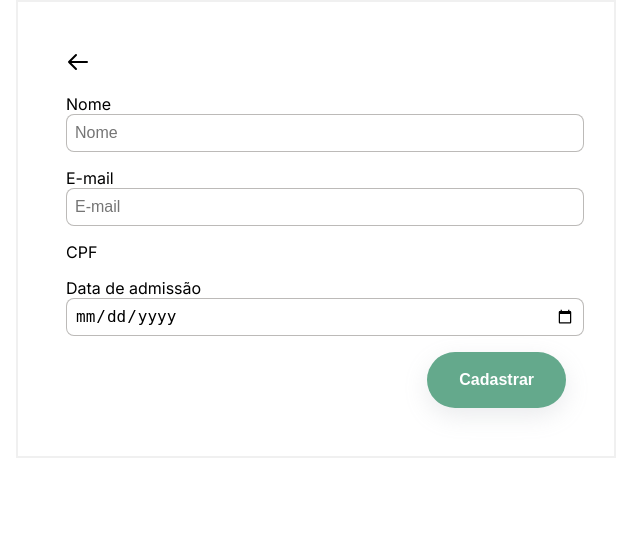
Scenario: NewUser Page tests › Should validate empty form on click button
This screenshot has width=633, height=535.
Click the button "Cadastrar" at (497, 380), box [427,352,566,408]
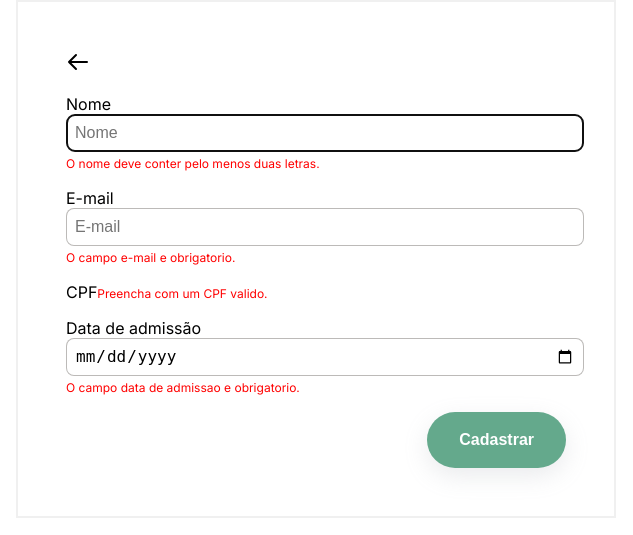
Expected: the text "O nome deve conter pelo menos duas letras." is shown, [66,156,320,171]
